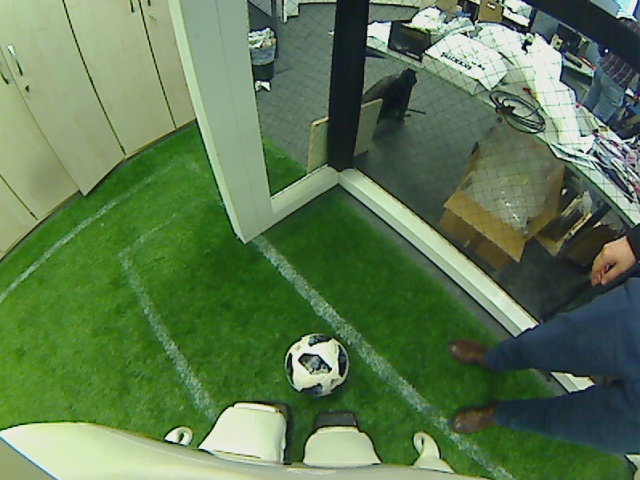ball: (283, 328, 347, 397)
